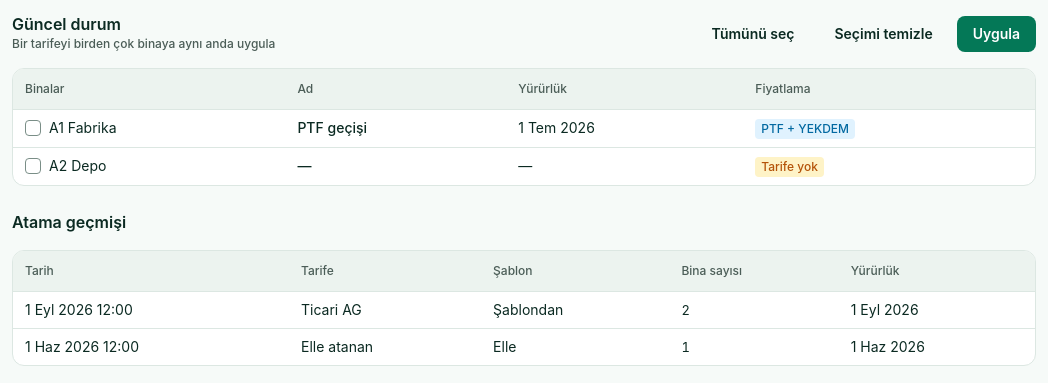
BulkTabView › selects and clears every building at once
Click the button "Tümünü seç".
click(753, 34)  # box [695,16,810,52]
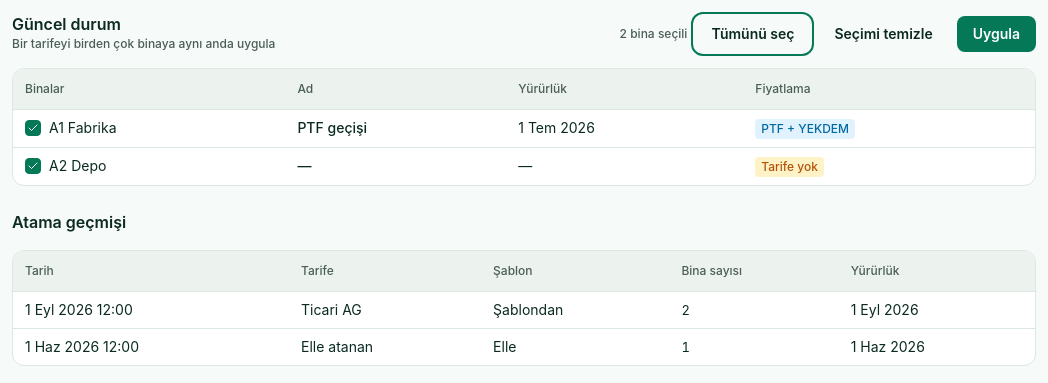
Expected: the text "2 bina seçili" is shown, [620,26,687,42]
Click the button "Seçimi temizle".
click(884, 34)  # box [818,16,949,52]
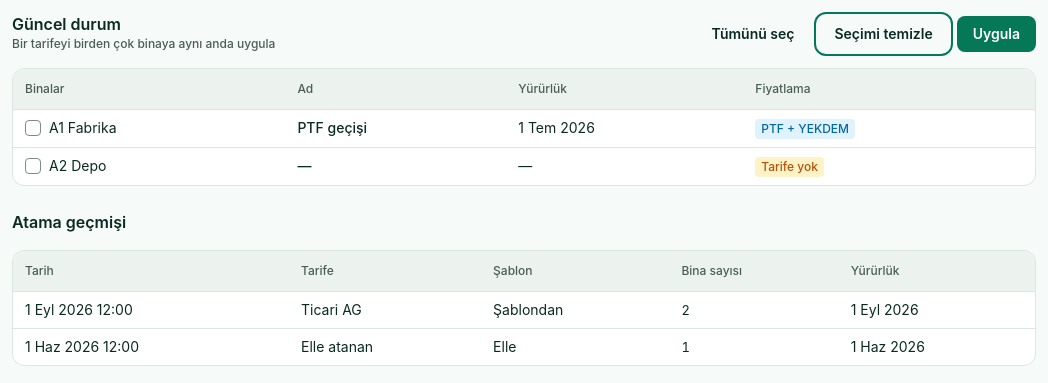
Expected: the text "bina seçili" is gone
